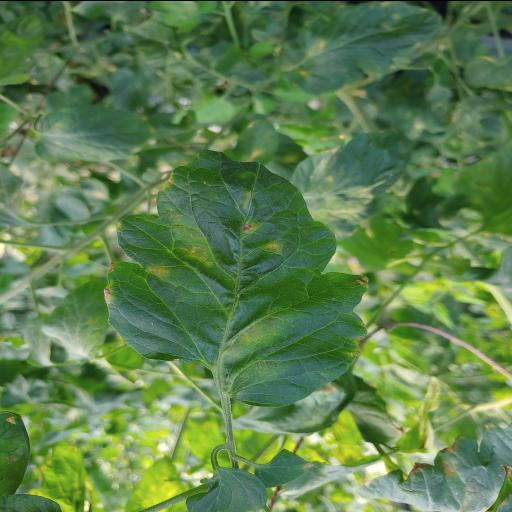Leaf Mold: (103, 148, 372, 406)
